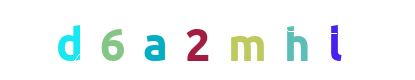2: (162, 0, 242, 80)
6: (115, 0, 195, 80)
A: (157, 0, 237, 80)
D: (31, 0, 111, 80)
H: (204, 0, 284, 80)
L: (294, 0, 374, 80)
M: (168, 0, 248, 80)
